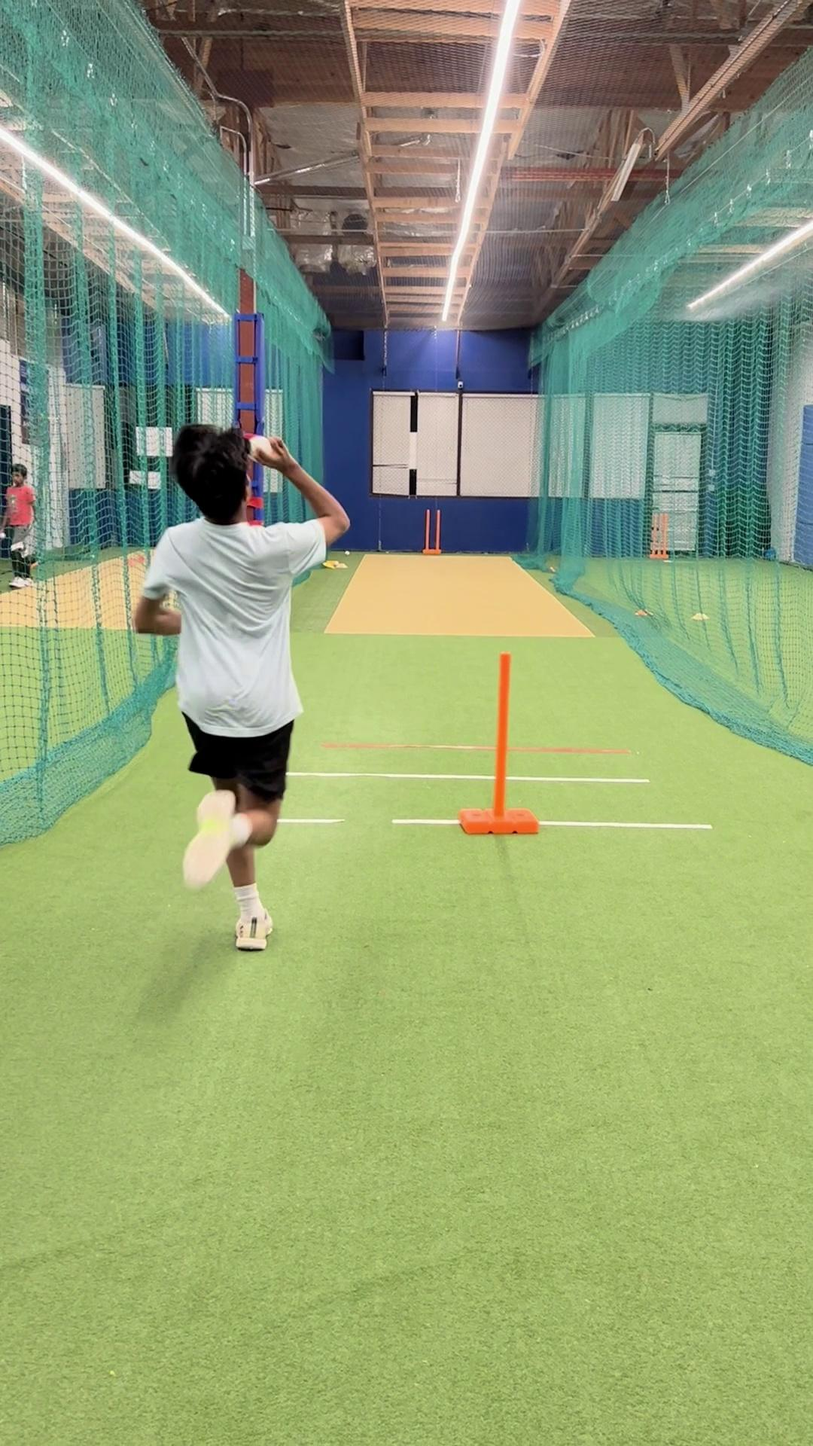ball: (244, 429, 276, 466)
